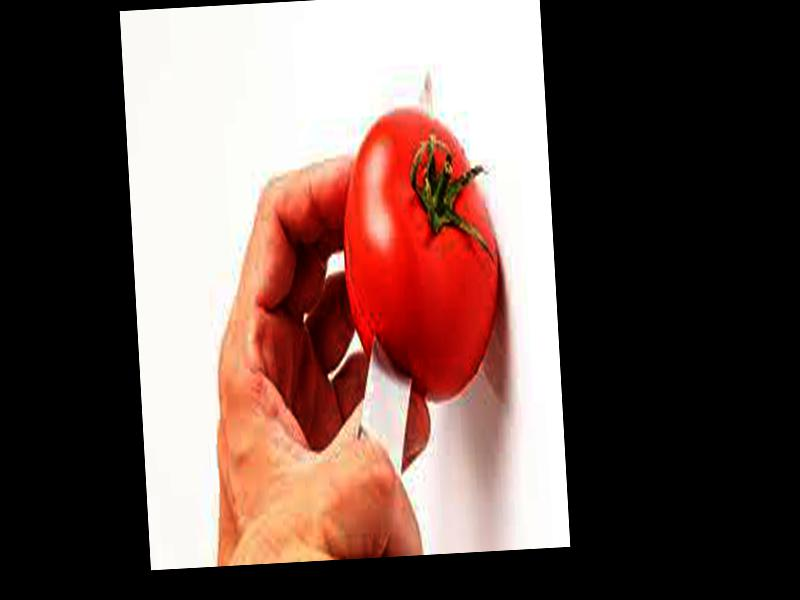Tomato: (335, 109, 505, 405)
